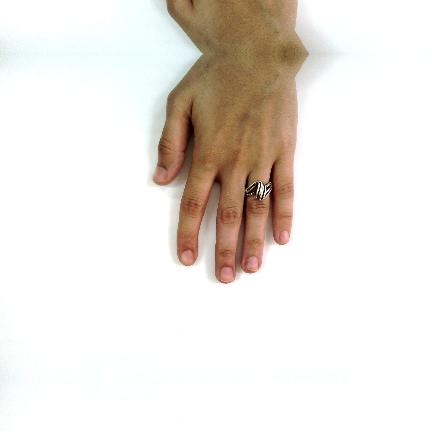Nail: (153, 166, 167, 184), (220, 267, 234, 282), (181, 250, 194, 266), (245, 256, 258, 271), (279, 230, 289, 244)
